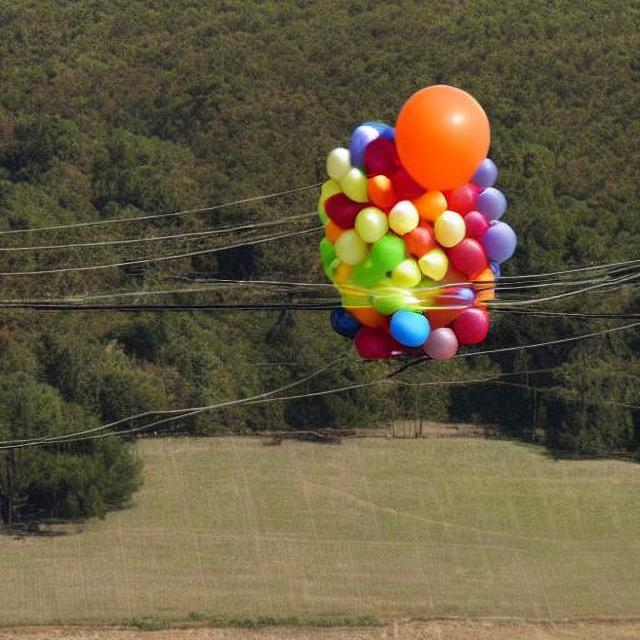balloon: (312, 82, 511, 363)
